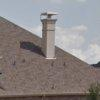Chimney: (34, 5, 69, 66)
